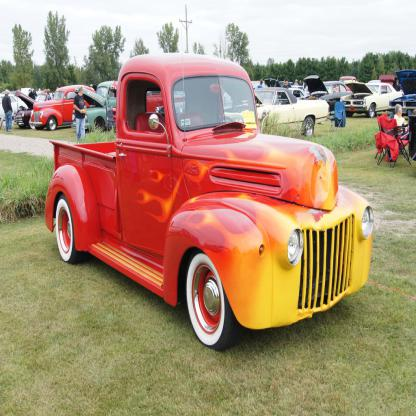Car: (0, 73, 416, 144)
Truck: (47, 54, 362, 369)
